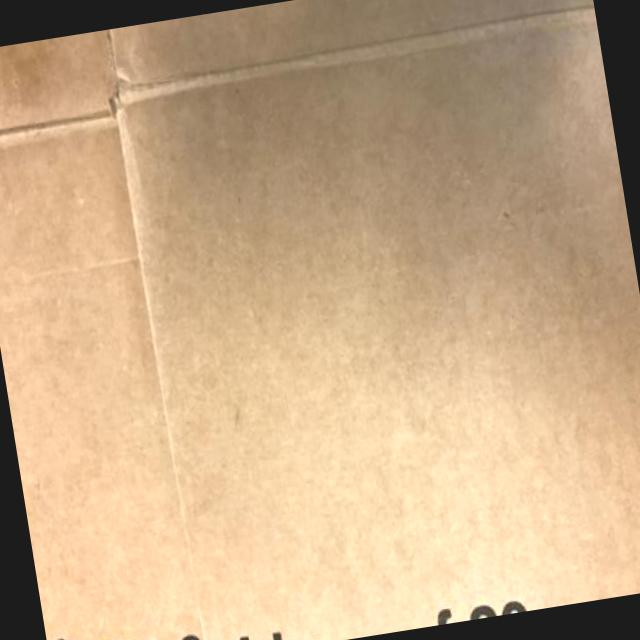cardboard: (0, 0, 639, 639), (119, 24, 639, 639), (0, 124, 199, 639), (112, 0, 592, 84), (0, 30, 114, 131)
